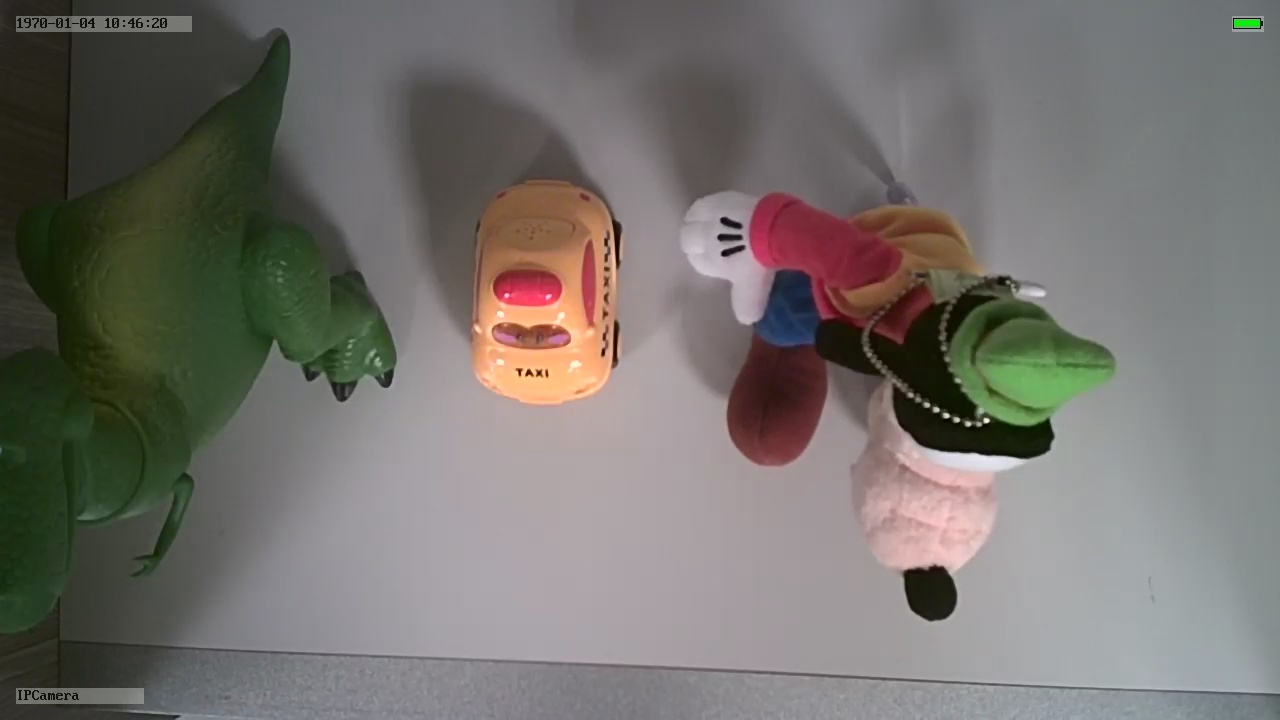car: (467, 171, 627, 403)
goofy: (675, 183, 1113, 620)
